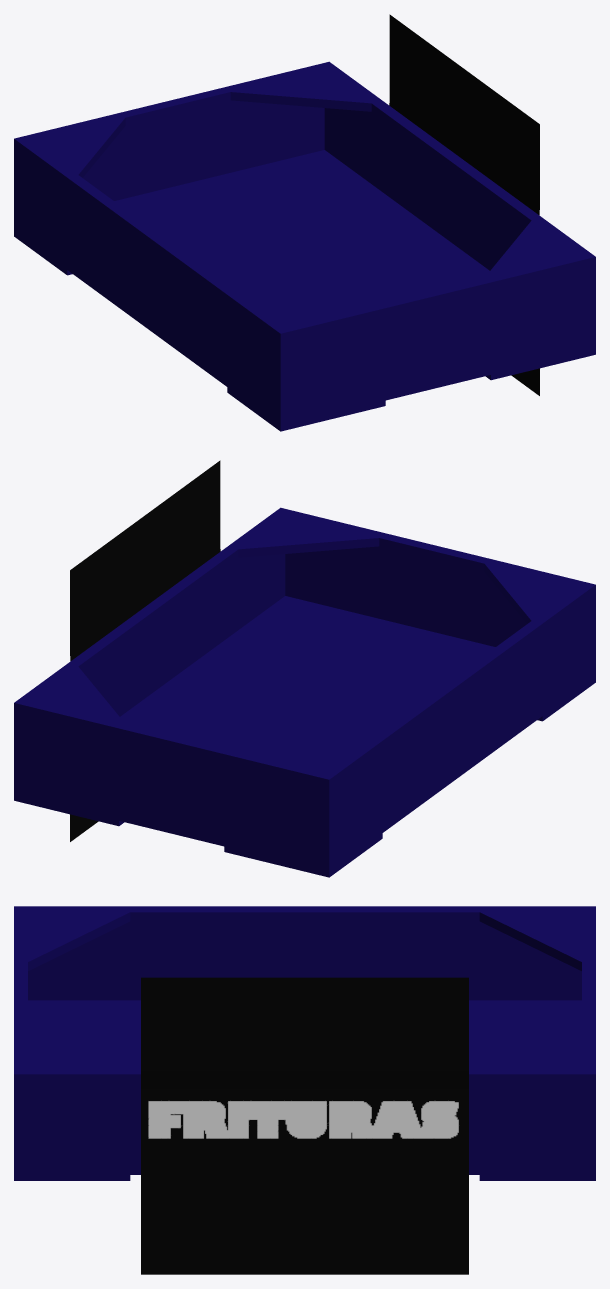
The model's file is Caja de latas o snacks 2.fbx.
3 renders of one model, top to bottom at view 1: azimuth 30°, elevation 25°; view 2: azimuth 150°, elevation 25°; view 3: azimuth 270°, elevation 25°, orthographic. The views are drawn at different scales.
Parts seen in each view (by area): view 1: Cube, Marcas Piratas-14; view 2: Cube, Marcas Piratas-14; view 3: Marcas Piratas-14, Cube.
Part boxes in pixels (x1,y1,x2,y2): Cube: [14, 61, 595, 431]; Marcas Piratas-14: [389, 14, 539, 395]; Cube: [14, 507, 595, 877]; Marcas Piratas-14: [70, 460, 220, 841]; Marcas Piratas-14: [141, 977, 468, 1274]; Cube: [14, 906, 595, 1180].
Size of the model in its own units: 1004 by 823 by 1461.
